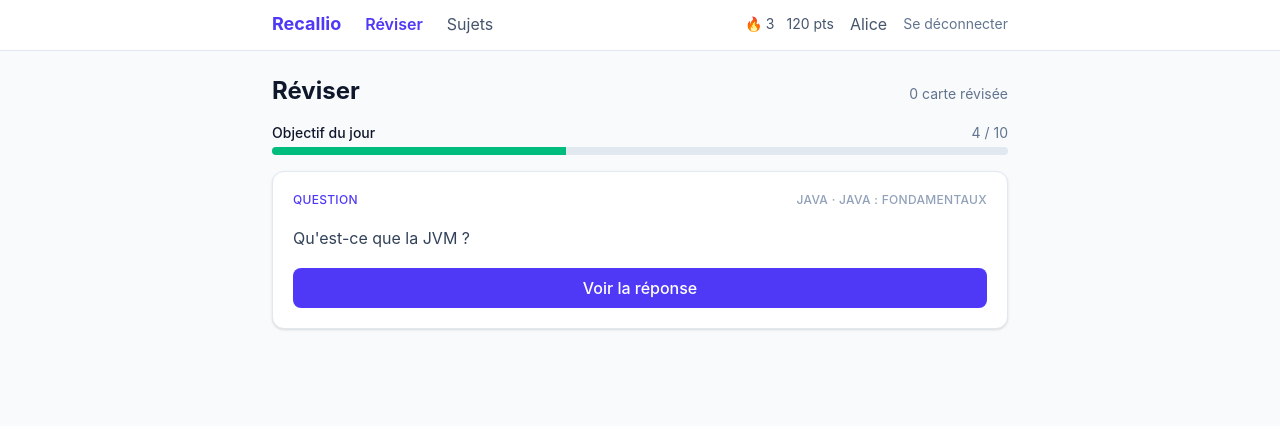
Test: ReviewPage › reveals the answer, shows the delay of each rating and records the chosen one
Expected: the text "Qu'est-ce que la JVM ?" is shown, [293,228,470,248]
Expected: the text "La machine virtuelle qui exécute le bytecode." is not shown
Click the button "Voir la réponse": (640, 288) [293,268,987,308]
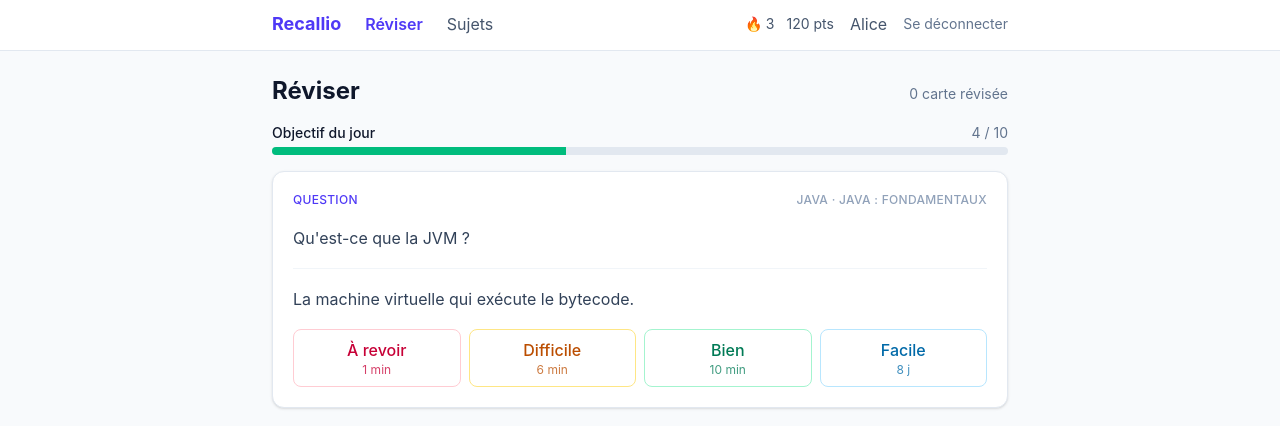
Now the text "La machine virtuelle qui exécute le bytecode." is shown, box [293,289,634,309]
Now the button "Bien 10 min" is shown
Now the button "Facile 8 j" is shown, box [820,329,987,387]
Click the button "Bien 10 min": (728, 358) [644,329,812,387]
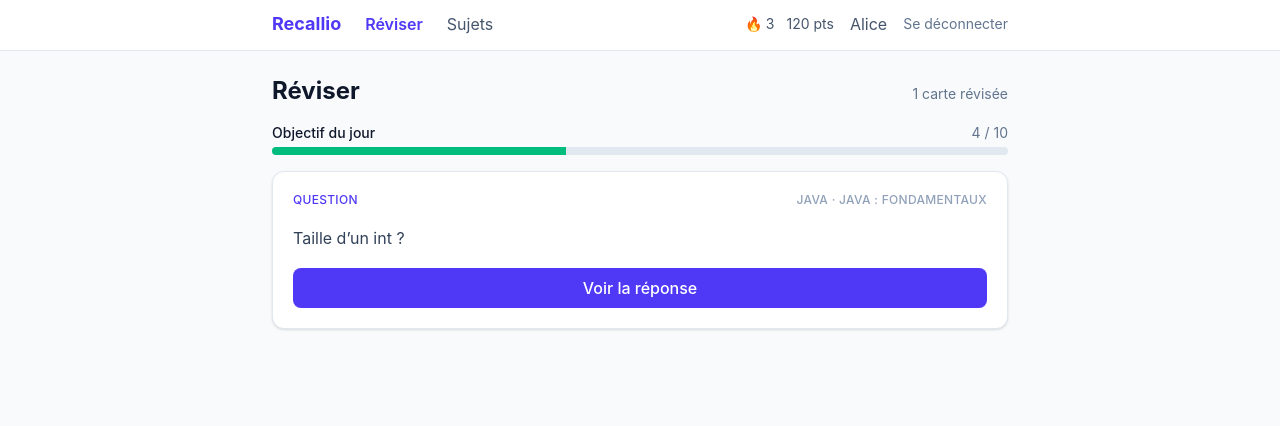
Now the text "Taille d’un int ?" is shown, box [293,228,405,248]
Now the text "1 carte révisée" is shown, box [912,84,1008,104]
